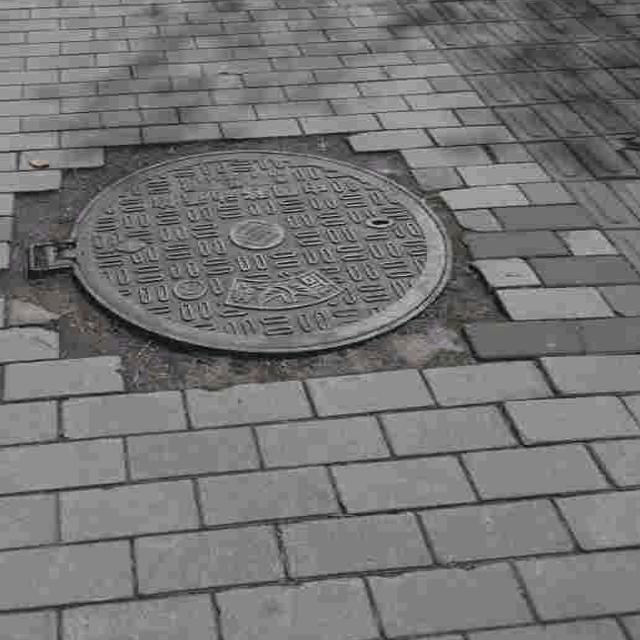good: (25, 147, 454, 355)
